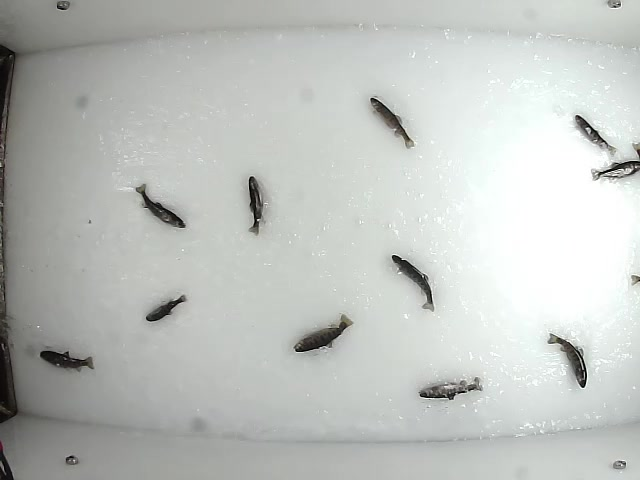fish: (291, 311, 357, 354), (392, 254, 437, 313), (367, 96, 417, 149), (133, 181, 187, 229), (546, 332, 589, 390), (572, 112, 619, 158), (417, 375, 484, 401), (588, 154, 640, 183), (37, 347, 96, 372), (143, 293, 189, 322), (244, 174, 265, 236)
